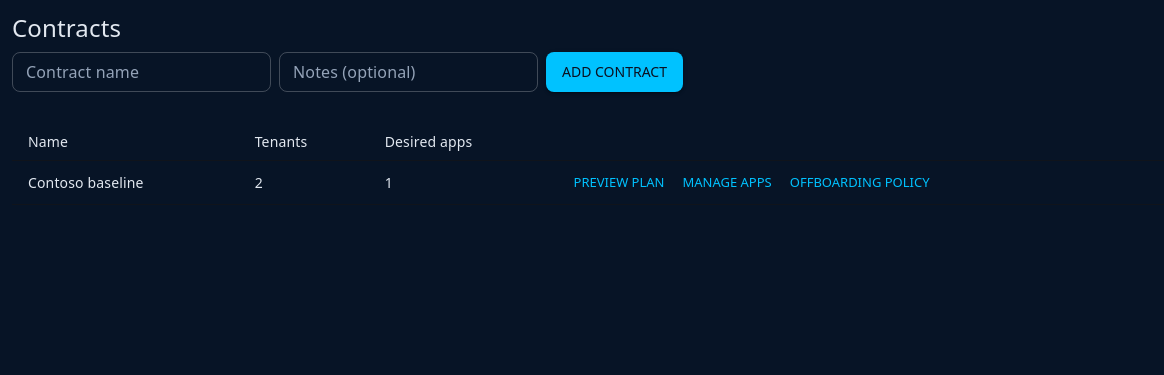
Test: Contracts › renders a preview plan
Click the button "Preview plan".
click(619, 183)  # box [568,167,670,198]
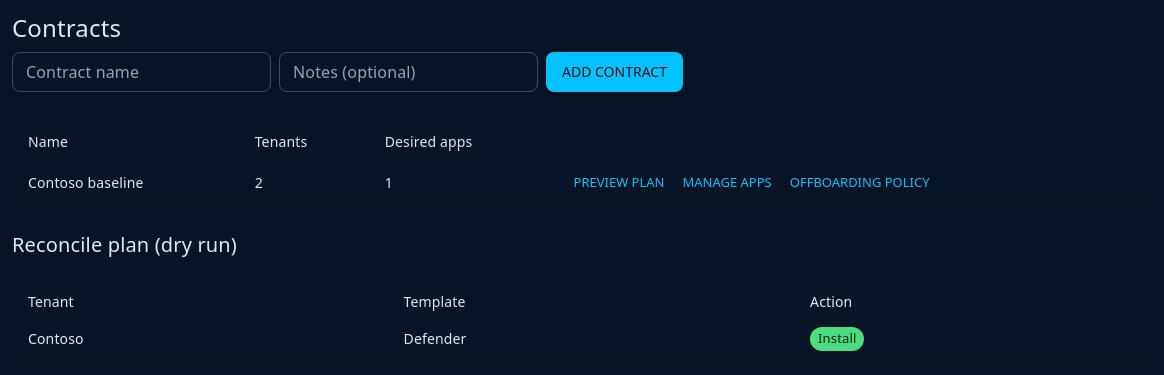
expect the heading "Reconcile plan (dry run)" is shown: met, box [12,231,237,258]
expect the text "Contoso" is shown: met, box [12,321,388,358]
expect the text "Defender" is shown: met, box [388,321,794,358]
